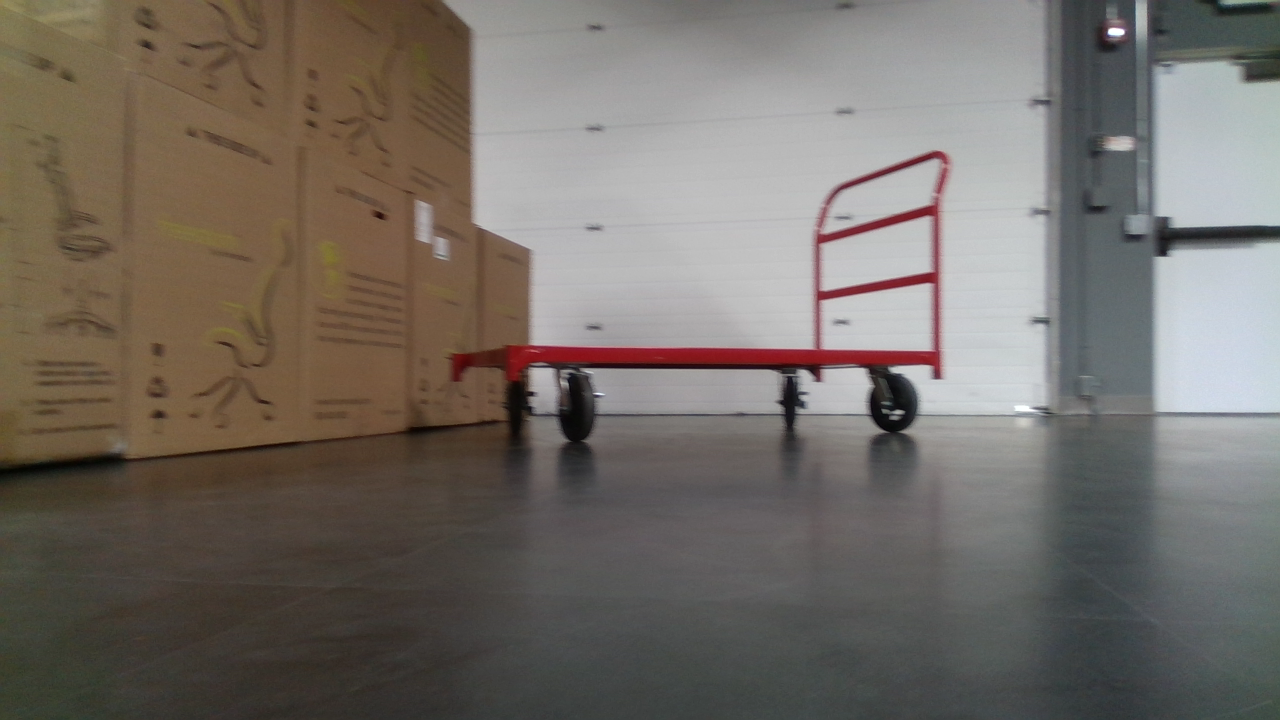Dolly: (446, 147, 956, 443)
Wheel: (866, 375, 919, 434), (557, 374, 595, 440), (499, 385, 533, 436), (778, 374, 802, 426)
